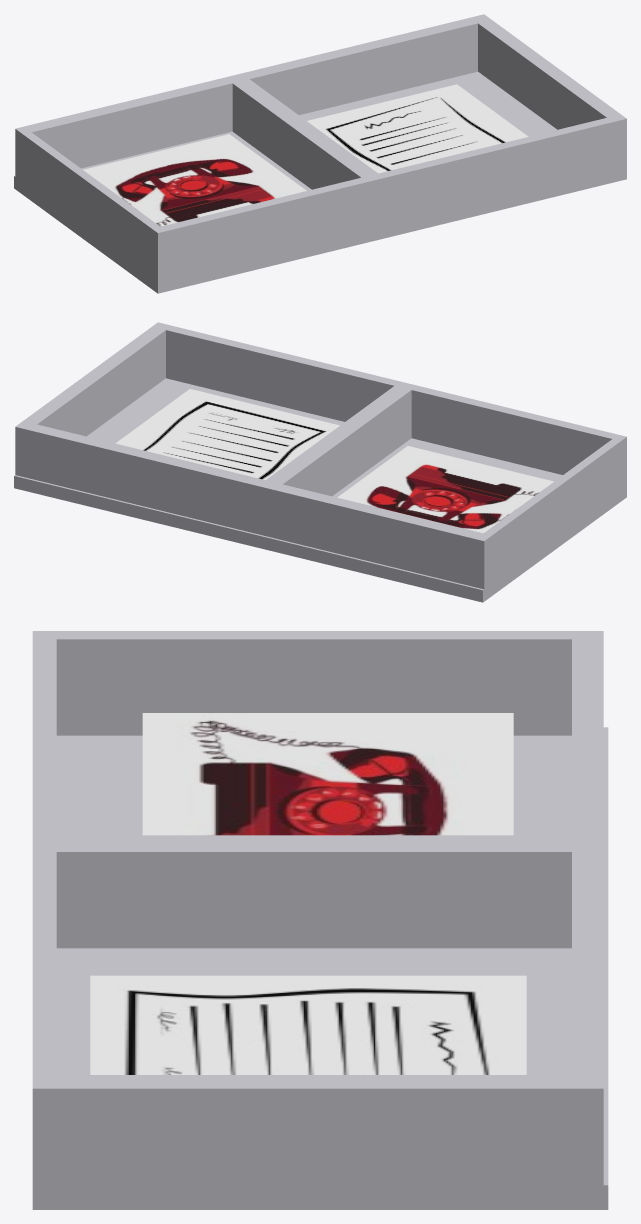
The model's file is bin02.dae.
3 views of the same model, one above another, from view 1: azimuth 30°, elevation 25°; view 2: azimuth 150°, elevation 25°; view 3: azimuth 270°, elevation 25° (orthographic). The views are drawn at different scales.
Visible parts, largest first — view 1: Bin.002, phone, paper; view 2: Bin.002, paper, phone; view 3: Bin.002, phone, paper.
Boxes of the visible parts, x1,y1,x2,y2 form: Bin.002: (14, 14, 626, 293); phone: (83, 134, 306, 226); paper: (307, 84, 528, 173); Bin.002: (14, 322, 626, 602); paper: (115, 389, 339, 479); phone: (337, 446, 553, 533); Bin.002: (32, 631, 608, 1209); phone: (142, 713, 513, 835); paper: (90, 975, 526, 1074).
Size of the model in its own units: 2.48 by 1.32 by 0.3063.
Materials: 3 (2 with a texture image).
